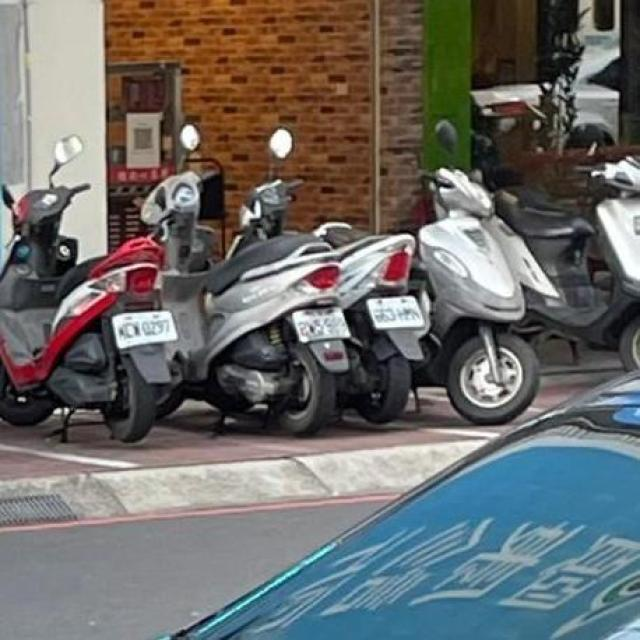W: (107, 303, 179, 352), (284, 302, 354, 346), (365, 289, 426, 333)
